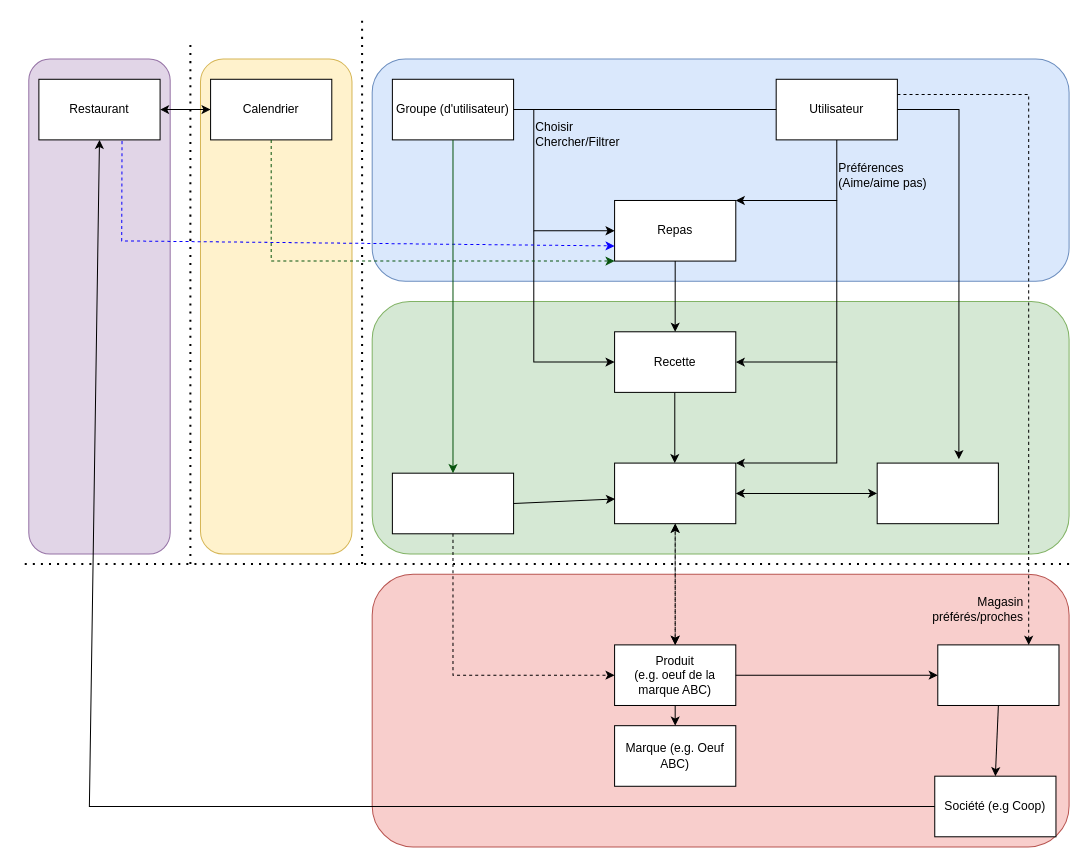
Image size: 1088x865. Some labels were removed from this diagram. The shapes that lost their labels are listed below. From the top down, each one's centre as x and y in pixels, then its label:
At (452,503): "Liste de courses".
At (675,493): "Ingrédient (e.g. un oeuf)".
At (937,493): "Allergènes/ Allergies Ethiques (Vegan, religion, ...)".
At (998,674): "Magasin (physique: e.g coop gare de renens)".
